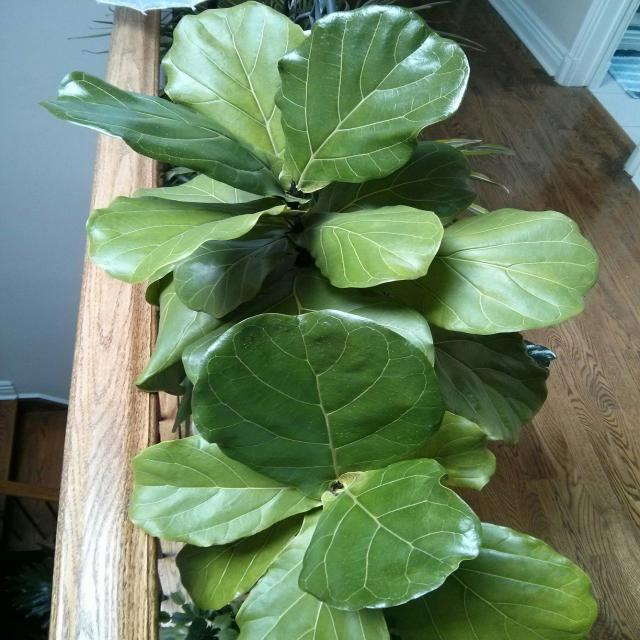Thrip-Group-: (316, 402, 423, 455), (240, 321, 335, 360)
